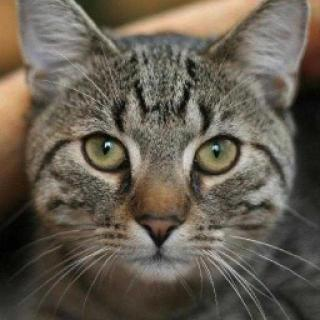cat: (19, 0, 306, 295)
nose: (127, 192, 191, 251)
